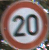20 km speed: (1, 1, 49, 49)
